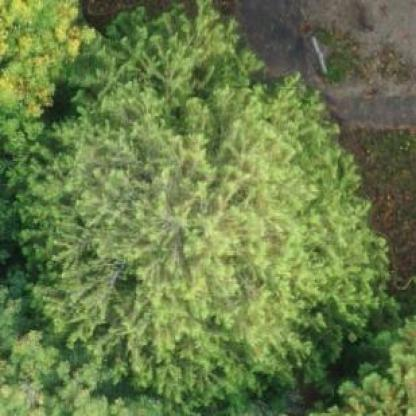Coniferous Tree: (16, 9, 391, 394)
